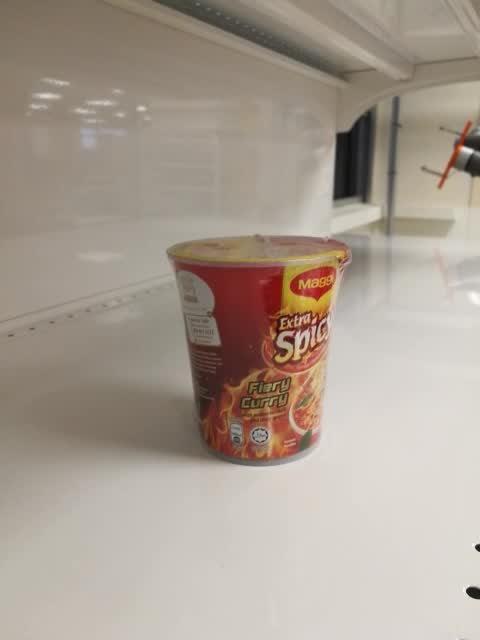maggi: (163, 234, 352, 469)
